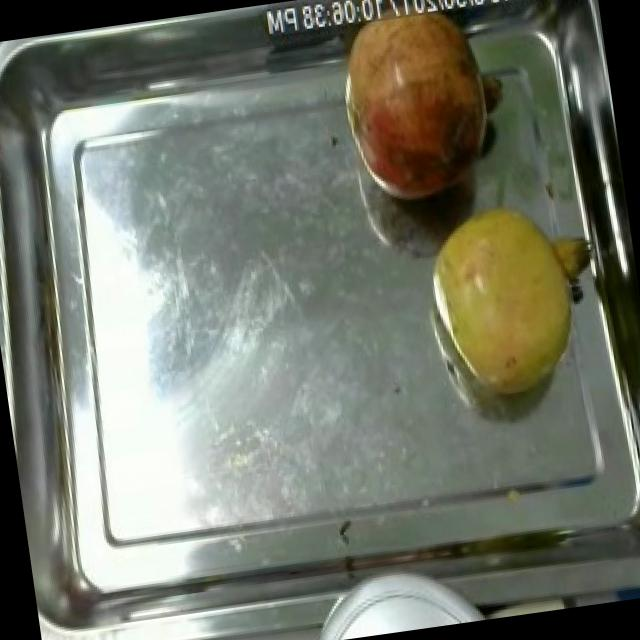fruit: (415, 184, 605, 418), (328, 0, 515, 219), (0, 107, 12, 207)
